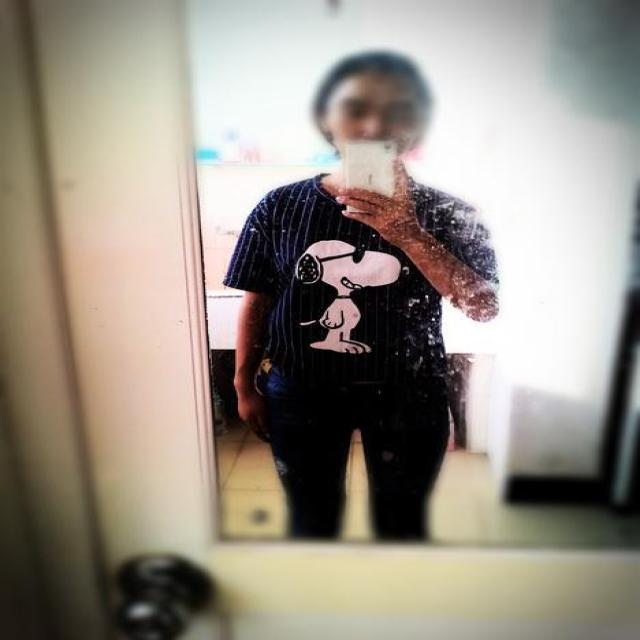short-sleeve-top: (235, 156, 494, 404)
